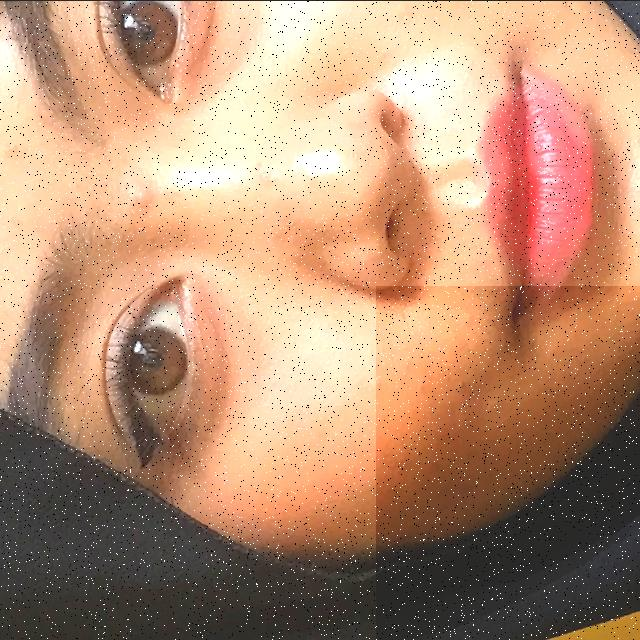kapan: (376, 285, 640, 640)
